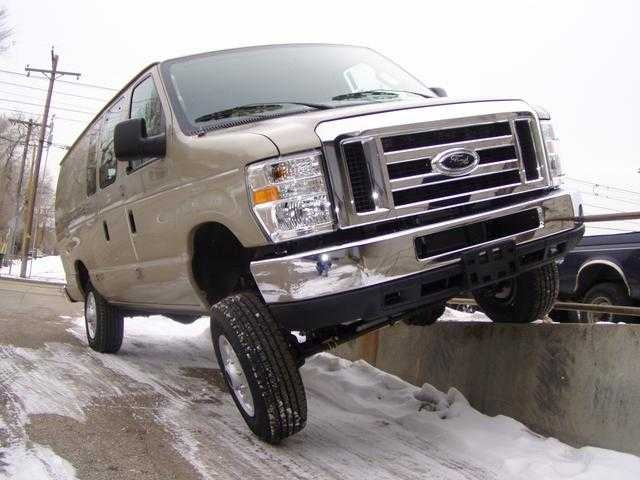van: (53, 42, 582, 445)
